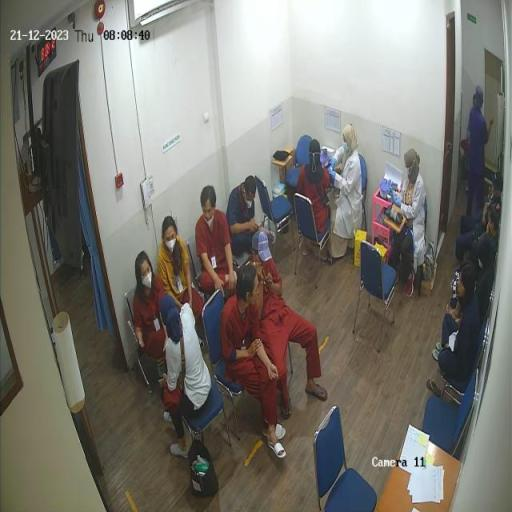person: (246, 245, 329, 419), (220, 266, 288, 455), (160, 297, 212, 460), (388, 147, 428, 297), (228, 176, 285, 281), (431, 263, 482, 378), (327, 124, 364, 263), (196, 186, 239, 304), (159, 216, 206, 320), (456, 173, 505, 267), (448, 234, 496, 328), (297, 139, 332, 242), (135, 252, 167, 356), (467, 86, 492, 219), (464, 205, 501, 269)
